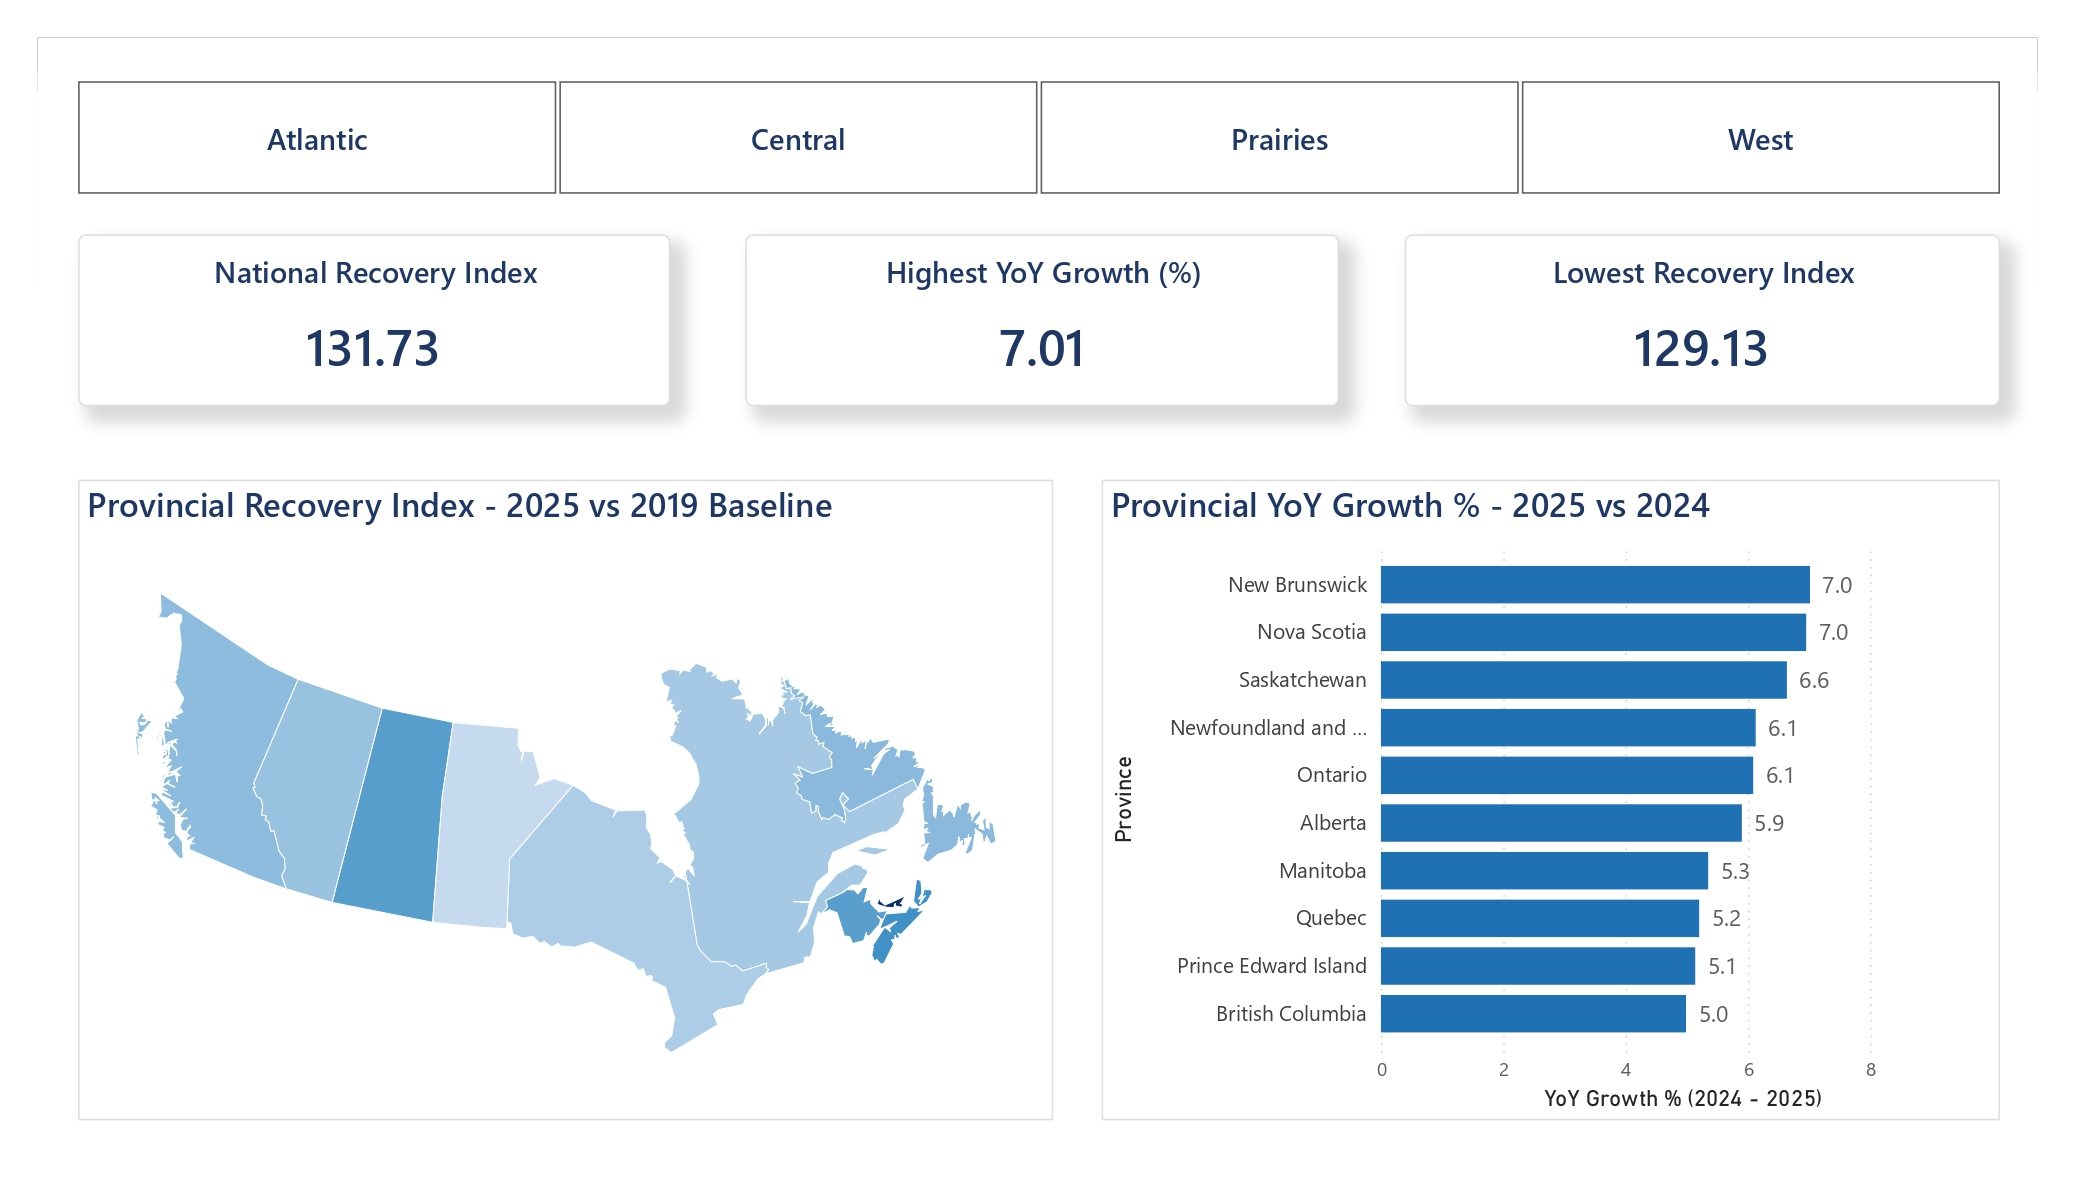

The page's visual inventory and layout, read from the dashboard file:
{"tool":"powerbi","page":{"name":"Provicial Opportunity Map","canvas":[1280,720],"ordinal":0},"visuals":[{"type":"cardVisual","title":"National Recovery Index","fields":{"Data":["Measures_Used.Recovery Index"]},"box":[26.1,126.2,378.7,109.8],"z":0},{"type":"cardVisual","title":"Highest YoY Growth (%)","fields":{"Data":["Measures_Used.YoY Growth %"]},"box":[452.8,126.2,380.1,109.8],"z":1000},{"type":"cardVisual","title":"Lowest Recovery Index","fields":{"Data":["Measures_Used.Recovery Index"]},"box":[875.5,126.2,380.1,109.8],"z":2000},{"type":"shapeMap","title":"Provincial Recovery Index - 2025 vs 2019 Baseline","fields":{"Value":["Measures_Used.Recovery Index"],"Category":["FoodService_Adjusted.Province"]},"box":[26.1,282.7,624.4,410.3],"z":3000},{"type":"clusteredBarChart","title":"Provincial YoY Growth % - 2025 vs 2024","fields":{"Category":["FoodService_Adjusted.Province"],"Y":["Measures_Used.YoY Growth %"]},"box":[680.6,282.7,575,410.3],"z":4000},{"type":"slicer","title":"Filter by Region","fields":{"Values":["Province_Lookup.Region"]},"box":[0,20.6,1280.3,86.4],"z":5000}]}

Visuals, with their boxes on the page's 1280x720 design canvas (x1, y1, x2, y2). These are canvas units, not pixel positions in the 2075x1200 screenshot, which may show the page scaled, cropped or inside an application window:
"National Recovery Index" cardVisual: box(26, 126, 405, 236)
"Highest YoY Growth (%)" cardVisual: box(453, 126, 833, 236)
"Lowest Recovery Index" cardVisual: box(876, 126, 1256, 236)
"Provincial Recovery Index - 2025 vs 2019 Baseline" shapeMap: box(26, 283, 650, 693)
"Provincial YoY Growth % - 2025 vs 2024" clusteredBarChart: box(681, 283, 1256, 693)
"Filter by Region" slicer: box(0, 21, 1280, 107)
